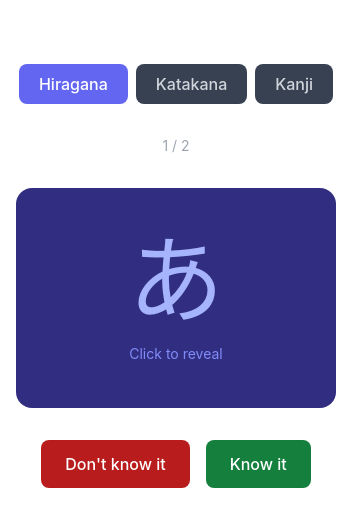
Test: FlashCardPage › shows_completion_screen_after_last_card
expect the text "1 / 2" is shown: met, box x1=162 y1=136 x2=190 y2=156
Note: Advance through first card
Step 1. Click the button "Know it" → (258, 464), box x1=206 y1=440 x2=311 y2=488
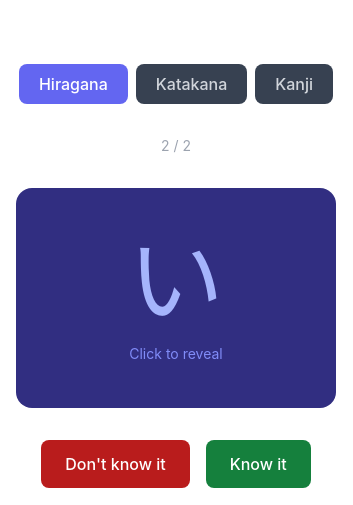
expect the text "2 / 2" is shown: met, box x1=161 y1=136 x2=191 y2=156
Note: Advance through last card
Step 2. Click the button "Know it" → (258, 464), box x1=206 y1=440 x2=311 y2=488
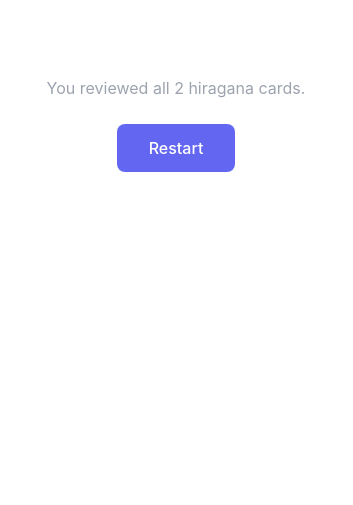
expect the button "Restart" is shown: met, box x1=117 y1=124 x2=235 y2=172
